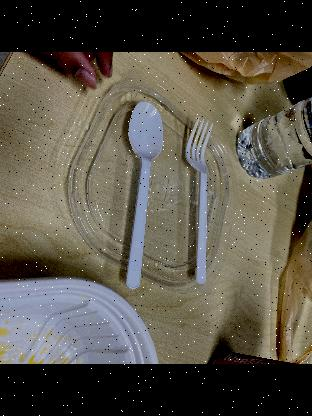Others: (115, 100, 170, 292), (176, 108, 225, 290)
